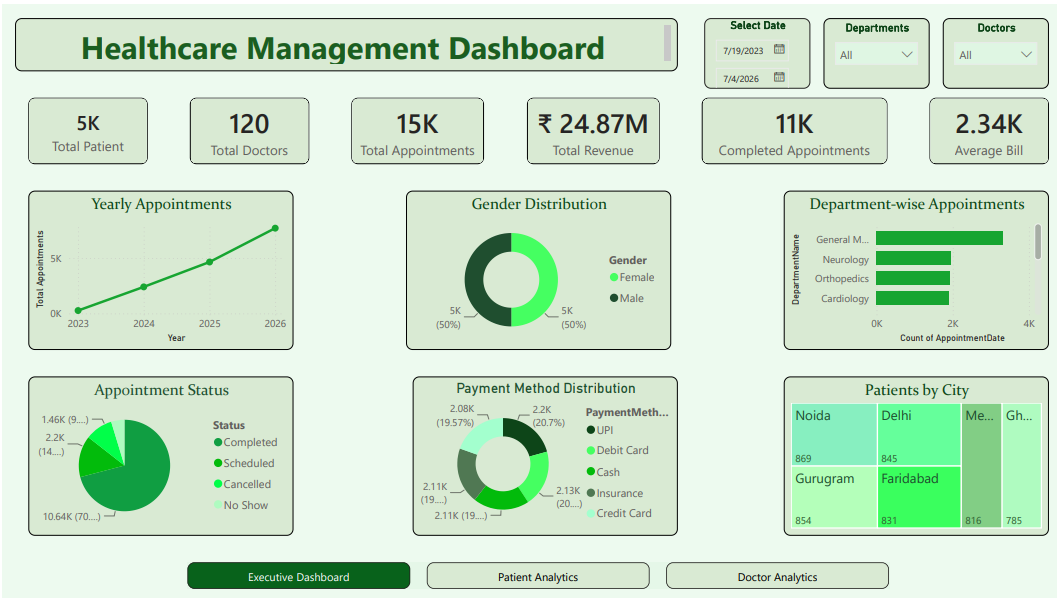

What the dashboard file says about the page in this screenshot:
{"tool":"powerbi","page":{"name":"Executive Dashboard","canvas":[1280,720],"ordinal":0},"visuals":[{"type":"textbox","box":[16,16,800,64],"z":0},{"type":"slicer","title":"Select Date","fields":{"Values":["appointments.AppointmentDate"]},"box":[848,16,128,85],"z":1000},{"type":"slicer","title":"Departments","fields":{"Values":["departments.DepartmentName"]},"box":[992,16,128,85],"z":2000},{"type":"slicer","title":"Doctors","fields":{"Values":["doctors.Doctor Name"]},"box":[1136,16,128,85],"z":3000},{"type":"cardVisual","fields":{"Data":["Measures_tables.Total Patient"]},"box":[32,112,144,80],"z":4000},{"type":"cardVisual","fields":{"Data":["Measures_tables.Total Doctors"]},"box":[227.2,112,144,80],"z":5000},{"type":"cardVisual","fields":{"Data":["Measures_tables.Total Appointments"]},"box":[422.4,112,160,80],"z":6000},{"type":"cardVisual","fields":{"Data":["Measures_tables.Total Revenue"]},"box":[633.6,112,160,80],"z":7000},{"type":"cardVisual","fields":{"Data":["Measures_tables.Completed Appointments"]},"box":[844.8,112,224,80],"z":8000},{"type":"cardVisual","fields":{"Data":["Measures_tables.Average Bill"]},"box":[1120,112,144,80],"z":9000},{"type":"lineChart","title":"Yearly Appointments","fields":{"Category":["appointments.AppointmentDate.Variation.Date Hierarchy.Year"],"Y":["Measures_tables.Total Appointments"]},"box":[32,224,320,192],"z":10000},{"type":"donutChart","title":"Gender Distribution","fields":{"Category":["doctors.Gender"],"Y":["Measures_tables.Total Patient"]},"box":[488,224,320,192],"z":11000},{"type":"clusteredBarChart","title":"Department-wise Appointments","fields":{"Category":["departments.DepartmentName"],"Y":["CountNonNull(appointments.AppointmentDate)"]},"box":[944,224,320,192],"z":12000},{"type":"pieChart","title":"Appointment Status","fields":{"Category":["appointments.Status"],"Y":["CountNonNull(appointments.AppointmentDate)"]},"box":[32,448,320,192],"z":13000},{"type":"donutChart","title":"Payment Method Distribution","fields":{"Category":["payments.PaymentMethod"],"Y":["CountNonNull(payments.PaymentID)"]},"box":[496,448,320,192],"z":14000},{"type":"treemap","title":"Patients by City","fields":{"Group":["patients.City"],"Values":["CountNonNull(patients.PatientID)"]},"box":[944,448,320,192],"z":15000},{"type":"pageNavigator","box":[224,672,848,32],"z":15001}]}

Visuals, with their boxes in screenshot pixels (x1, y1, x2, y2), scaled from the page's 1280x720 canvas onto the 1057x598 screenshot:
textbox: <box>13,13,674,66</box>
"Select Date" slicer: <box>700,13,806,84</box>
"Departments" slicer: <box>819,13,925,84</box>
"Doctors" slicer: <box>938,13,1044,84</box>
cardVisual - Measures_tables.Total Patient: <box>26,93,145,159</box>
cardVisual - Measures_tables.Total Doctors: <box>188,93,307,159</box>
cardVisual - Measures_tables.Total Appointments: <box>349,93,481,159</box>
cardVisual - Measures_tables.Total Revenue: <box>523,93,655,159</box>
cardVisual - Measures_tables.Completed Appointments: <box>698,93,883,159</box>
cardVisual - Measures_tables.Average Bill: <box>925,93,1044,159</box>
"Yearly Appointments" lineChart: <box>26,186,291,346</box>
"Gender Distribution" donutChart: <box>403,186,667,346</box>
"Department-wise Appointments" clusteredBarChart: <box>780,186,1044,346</box>
"Appointment Status" pieChart: <box>26,372,291,532</box>
"Payment Method Distribution" donutChart: <box>410,372,674,532</box>
"Patients by City" treemap: <box>780,372,1044,532</box>
pageNavigator: <box>185,558,885,585</box>
